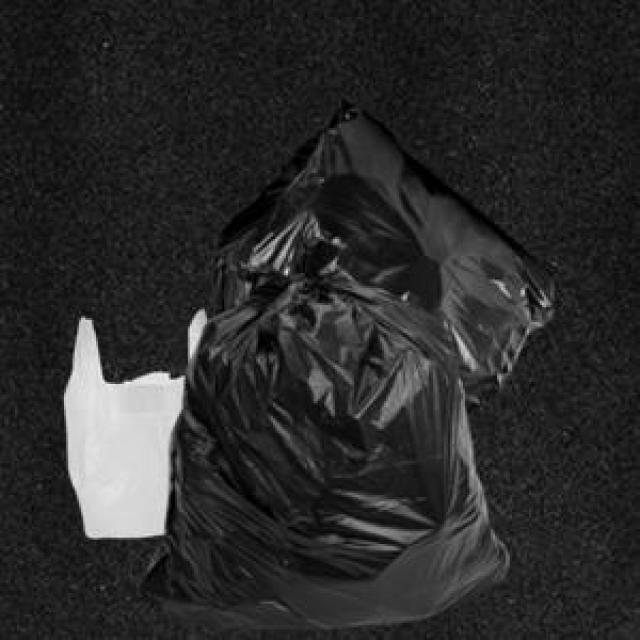miscellaneous trash: (137, 228, 504, 625), (209, 96, 548, 414)
